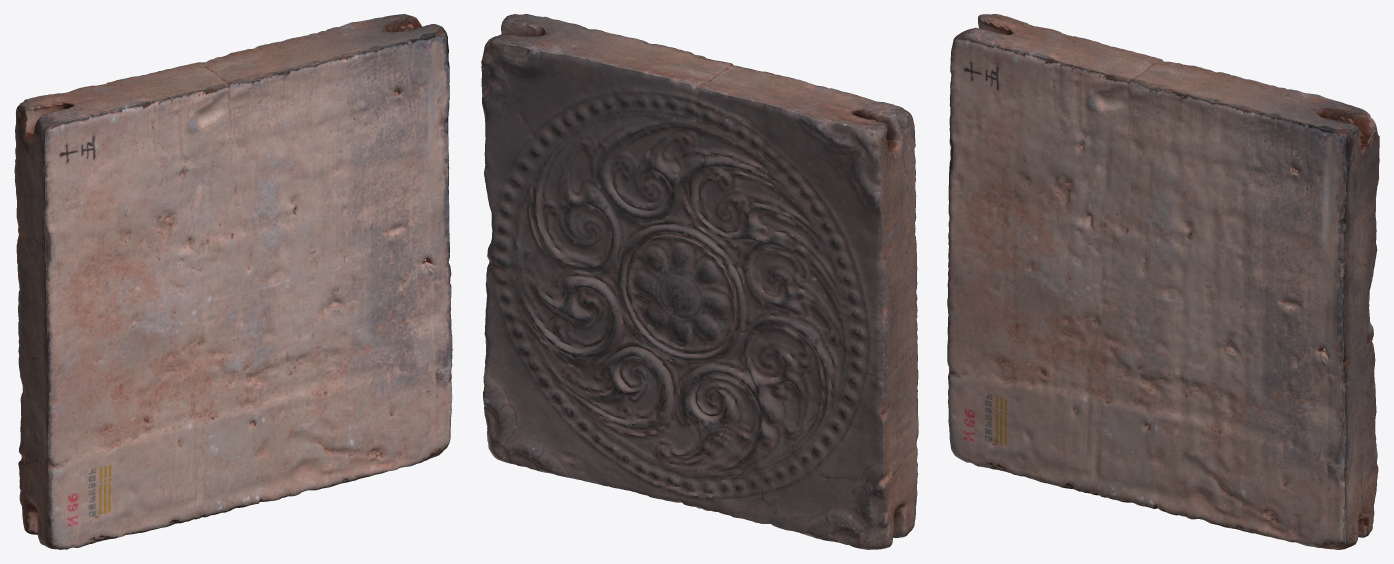
The model's file is nmk-4389.glb.
3 views of the same model, side by side, from view 1: azimuth 30°, elevation 25°; view 2: azimuth 150°, elevation 25°; view 3: azimuth 330°, elevation 25° (orthographic).
Parts seen in each view (by area): view 1: kno000066-000-30000; view 2: kno000066-000-30000; view 3: kno000066-000-30000.
Boxes of the visible parts, left/top/right/bottom form: kno000066-000-30000: left=14, top=14, right=452, bottom=549; kno000066-000-30000: left=481, top=14, right=918, bottom=549; kno000066-000-30000: left=947, top=14, right=1379, bottom=549.
Bounding box in the file's own units: 1.4 × 1.41 × 0.2422.
1 material, 1 textured.
